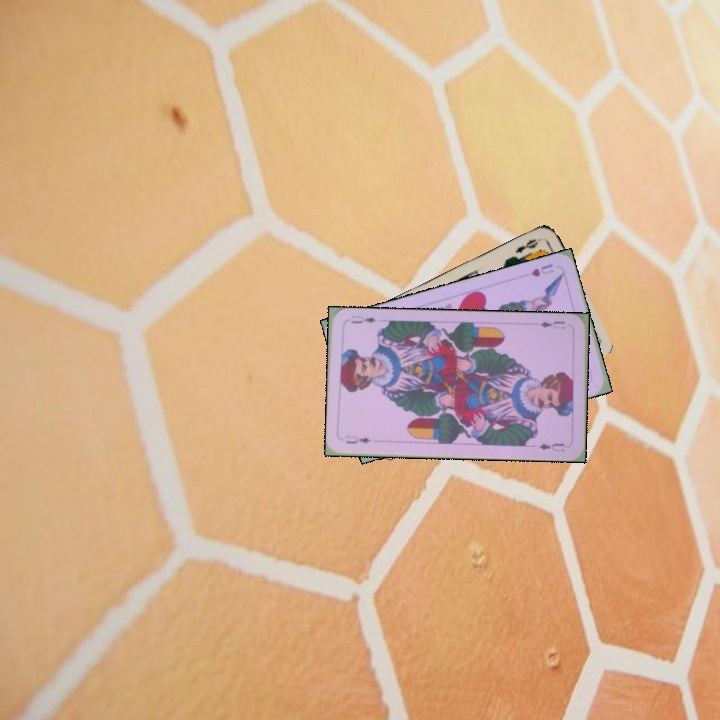EO: (511, 234, 544, 256)
EU: (536, 317, 568, 332), (341, 431, 373, 446)
HU: (527, 259, 557, 279)
